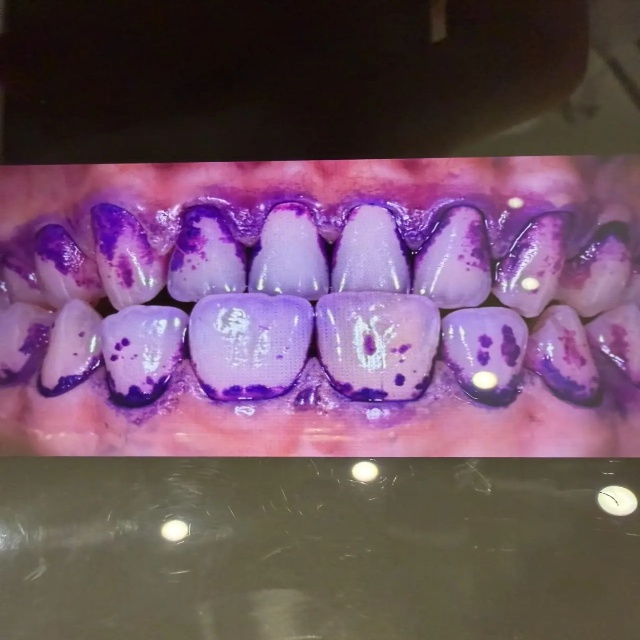clean_tooth: (264, 604, 299, 639), (599, 485, 636, 515), (158, 515, 190, 546), (351, 461, 379, 483)
plaque: (0, 161, 639, 456)
